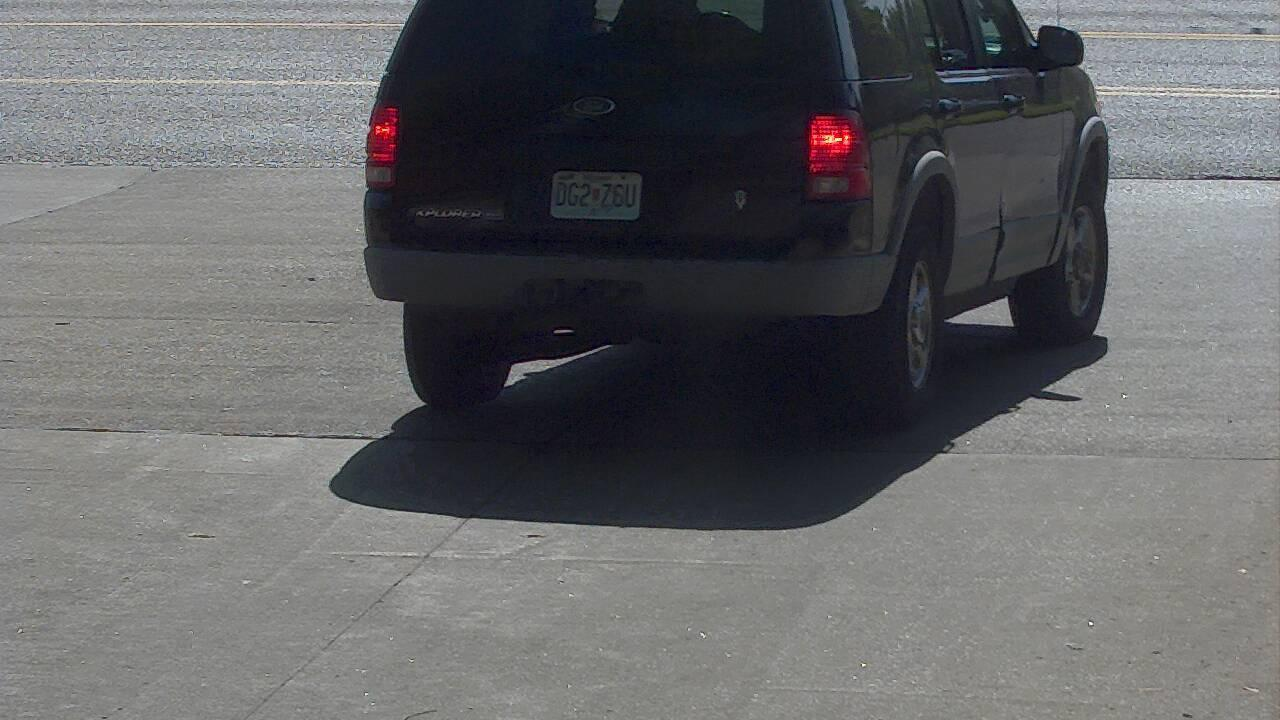placa de veiculo: (539, 161, 659, 225)
